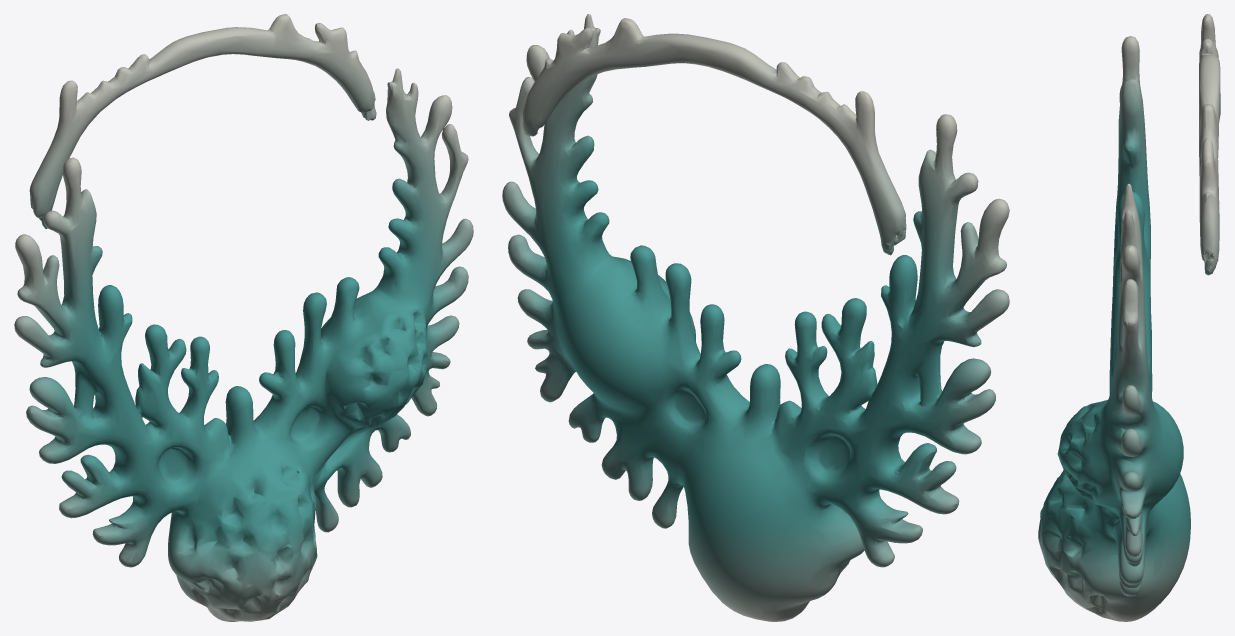
File: collar_5_ia.glb
The picture shows the model from 3 angles, left to right: view 1: azimuth 30°, elevation 25°; view 2: azimuth 150°, elevation 25°; view 3: azimuth 270°, elevation 25°; orthographic projection. The views are drawn at different scales.
Parts seen in each view (by area): view 1: model; view 2: model; view 3: model.
Part boxes in pixels (x1,y1,x2,y2): model: (14, 14, 473, 621); model: (502, 14, 1009, 621); model: (1038, 14, 1220, 621).
Size of the model in its own units: 1.65 by 1.9 by 0.5722.
